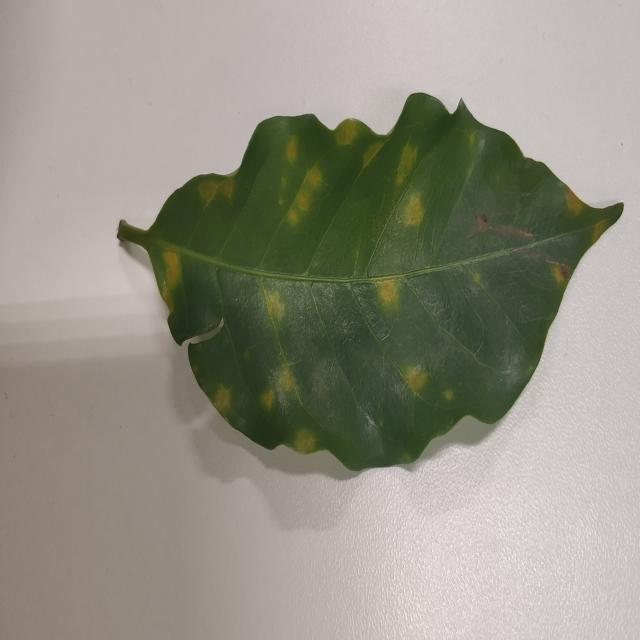Enfermedad-Roya: (116, 93, 625, 475)
